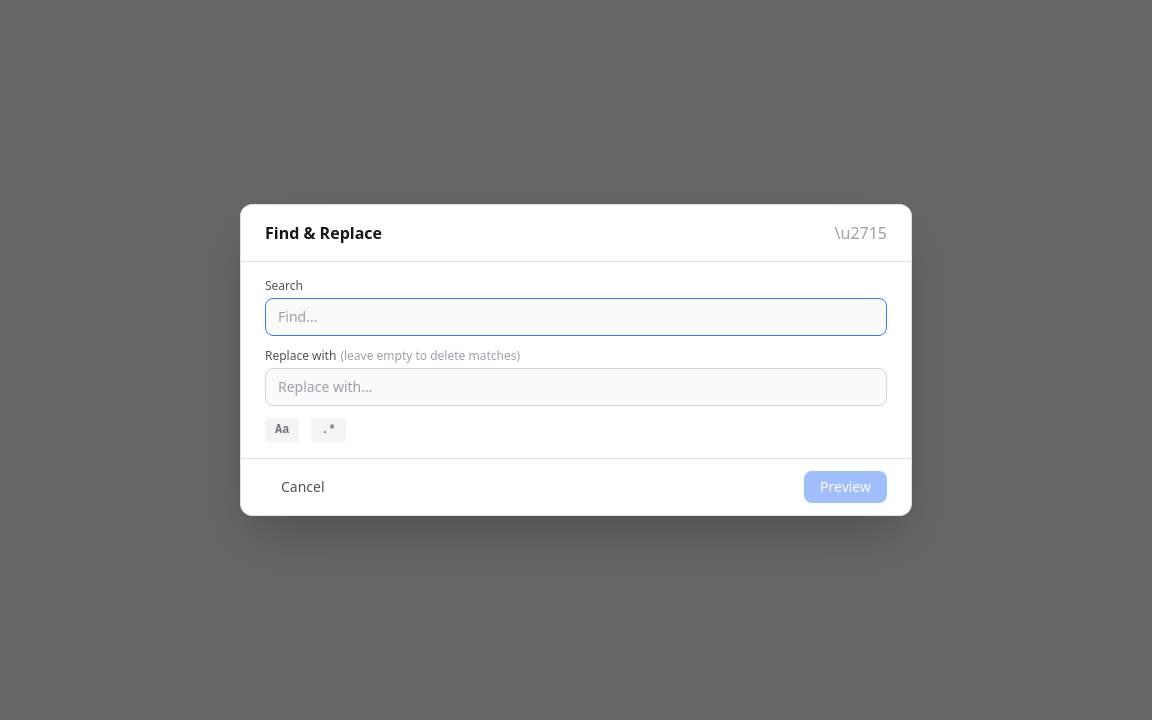
Scenario: FindReplaceModal › applies replacements to the selected chapters and reports the result
Type "whilst" into the field with placeholder "Find…" at (576, 317), box [265, 298, 887, 336]
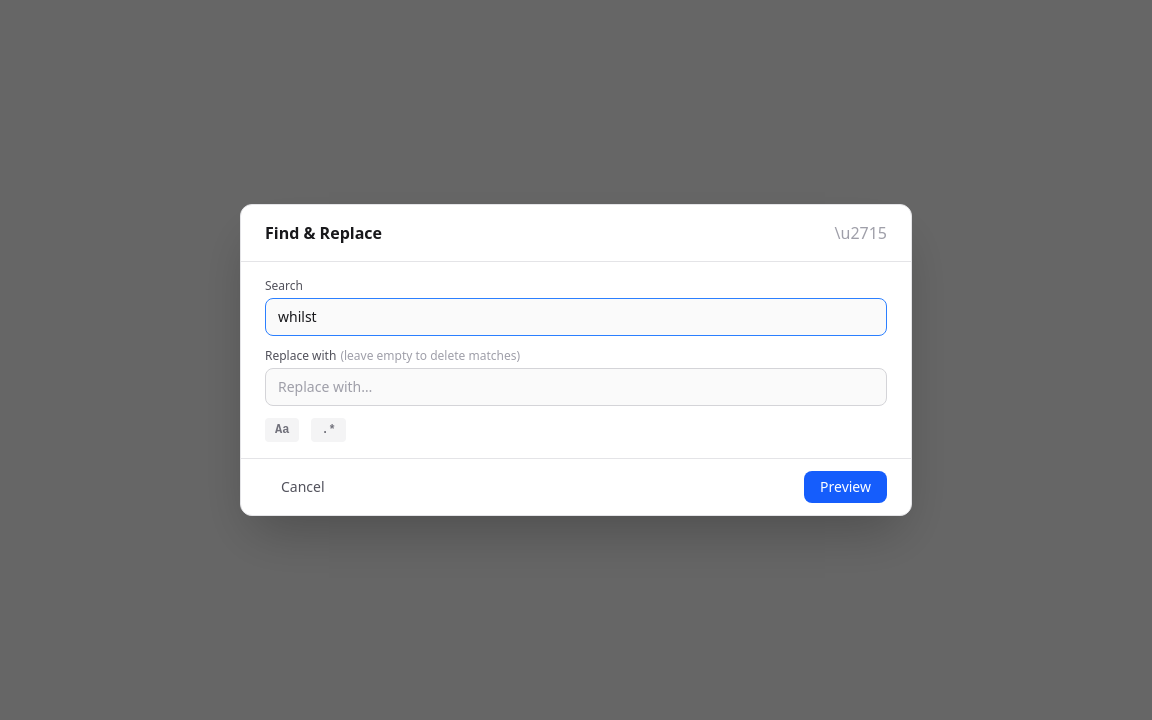
Click the button "Preview" at (846, 487), box [804, 471, 887, 503]
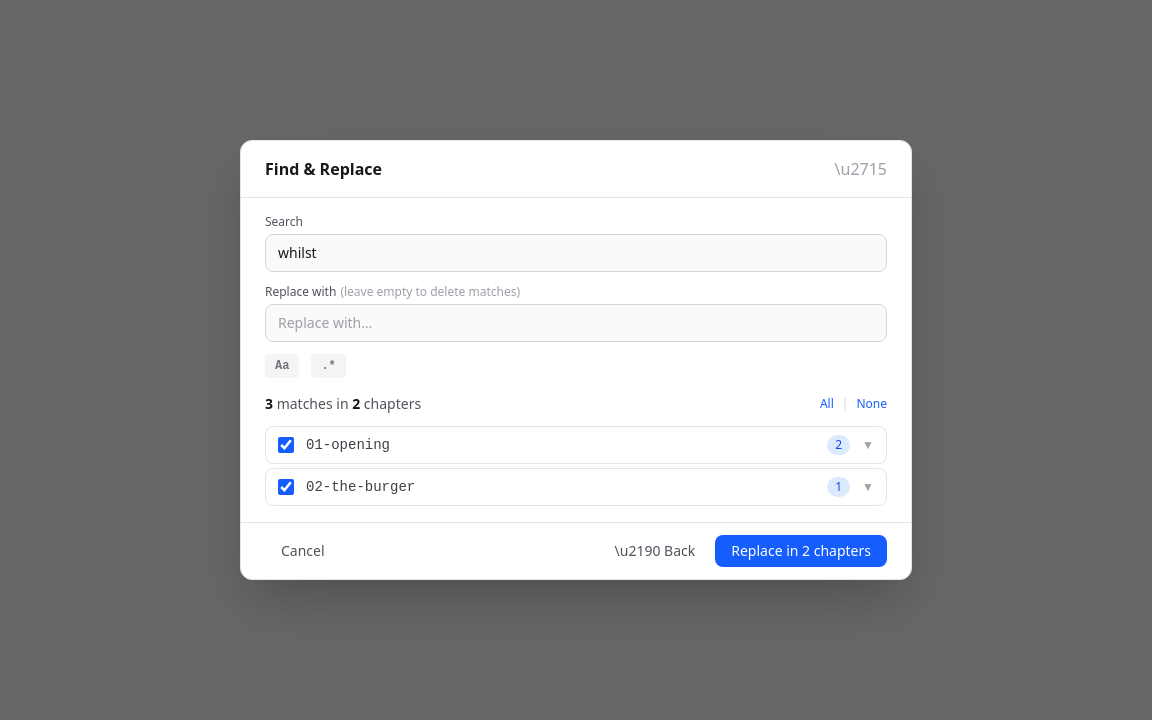
Expected: the text "01-opening" is shown, [306, 437, 390, 453]
Type "while" into the field with placeholder "Replace with…" at (576, 323), box [265, 304, 887, 342]
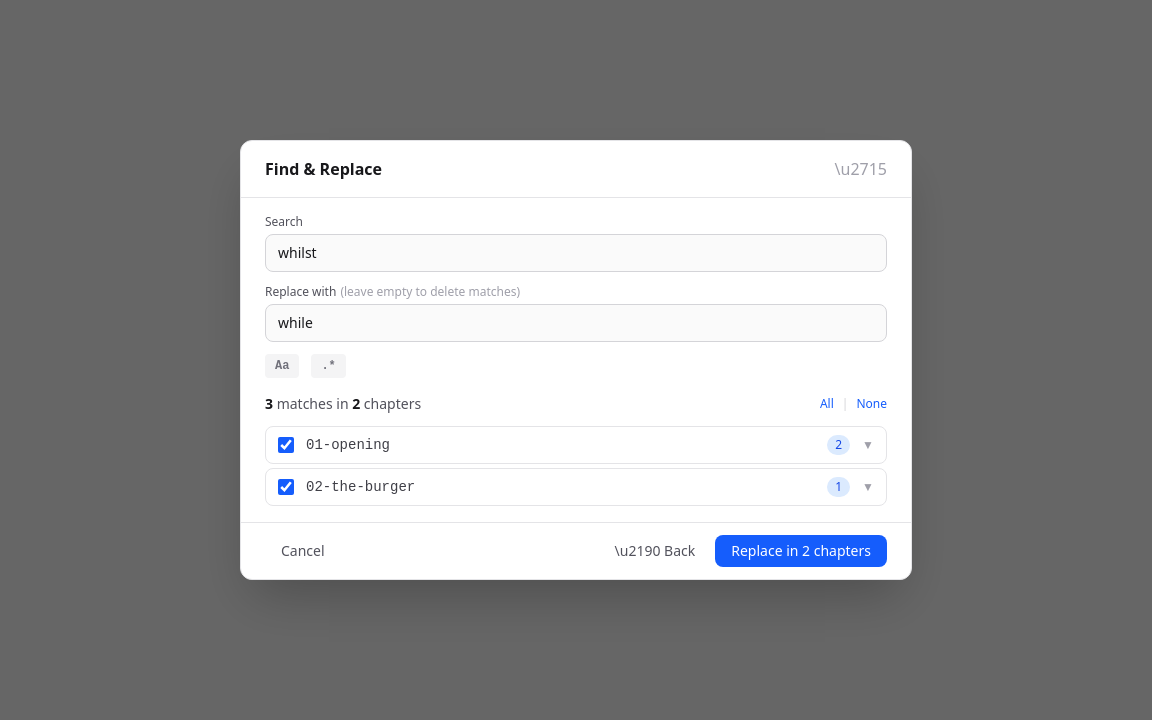
Click the checkbox next to "02-the-burger" at (286, 487), box [278, 479, 294, 495]
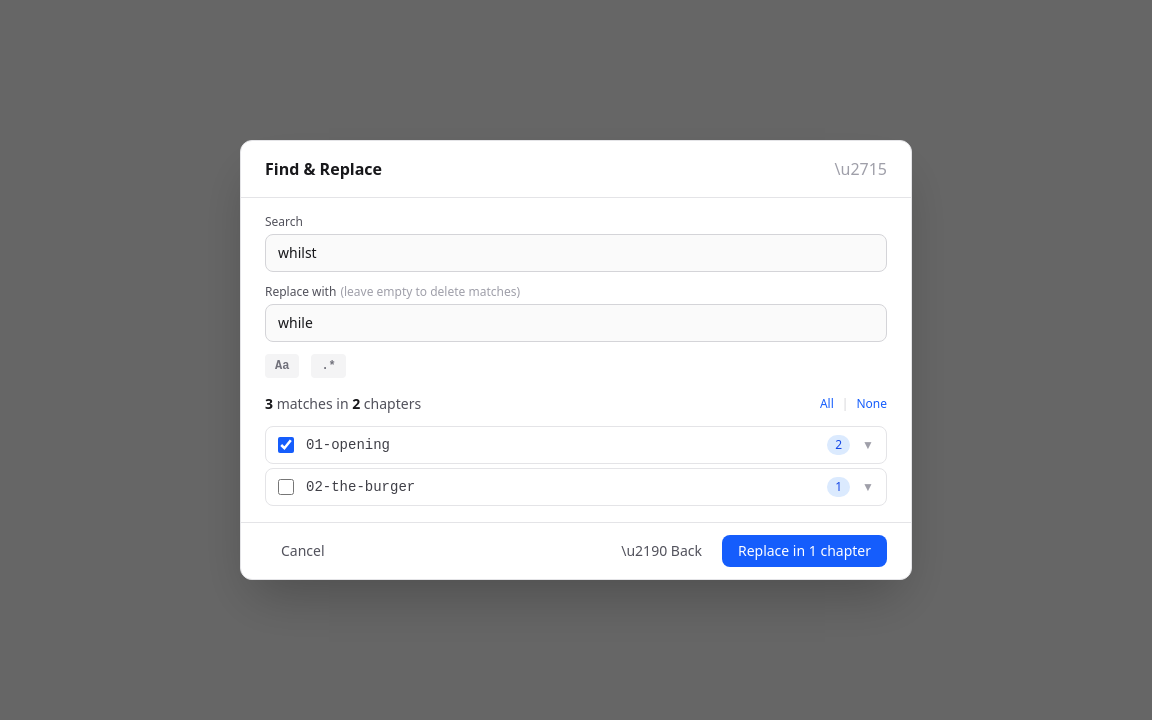
Click the button "Replace in 1 chapter" at (804, 551), box [722, 535, 887, 567]
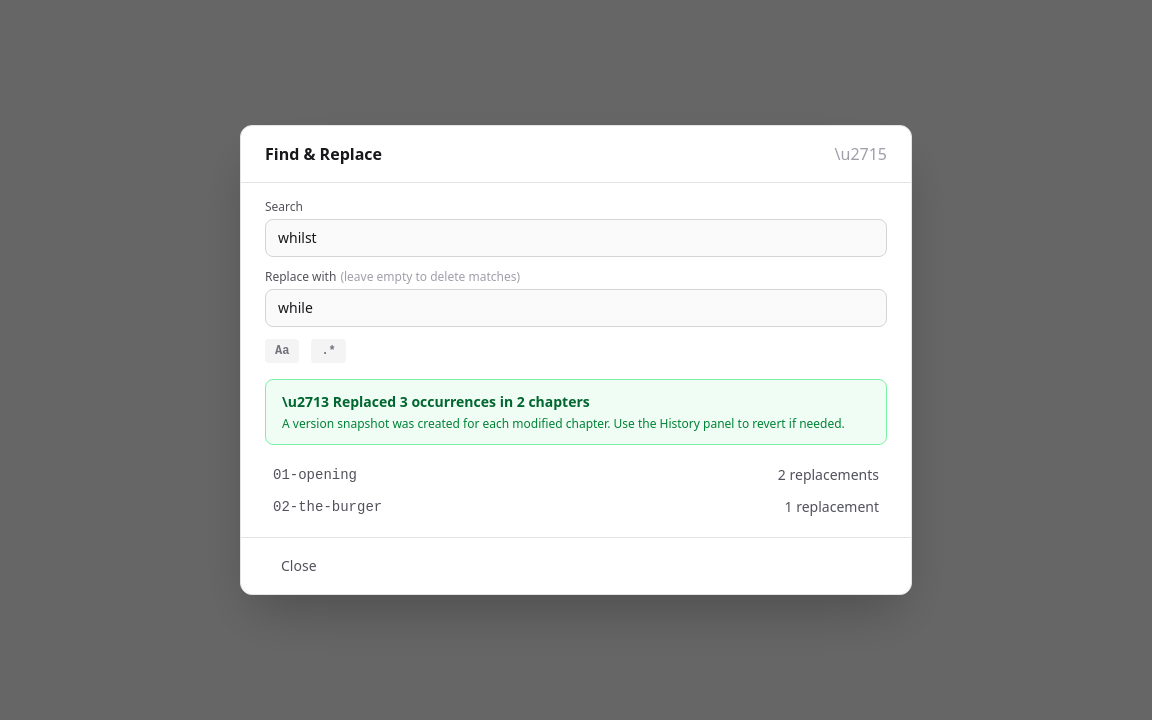
Expected: the text "\\u2713 Replaced 3 occurrences in 2 chapters" is shown, [282, 392, 590, 411]
Expected: the text "2 replacements" is shown, [778, 465, 879, 485]
